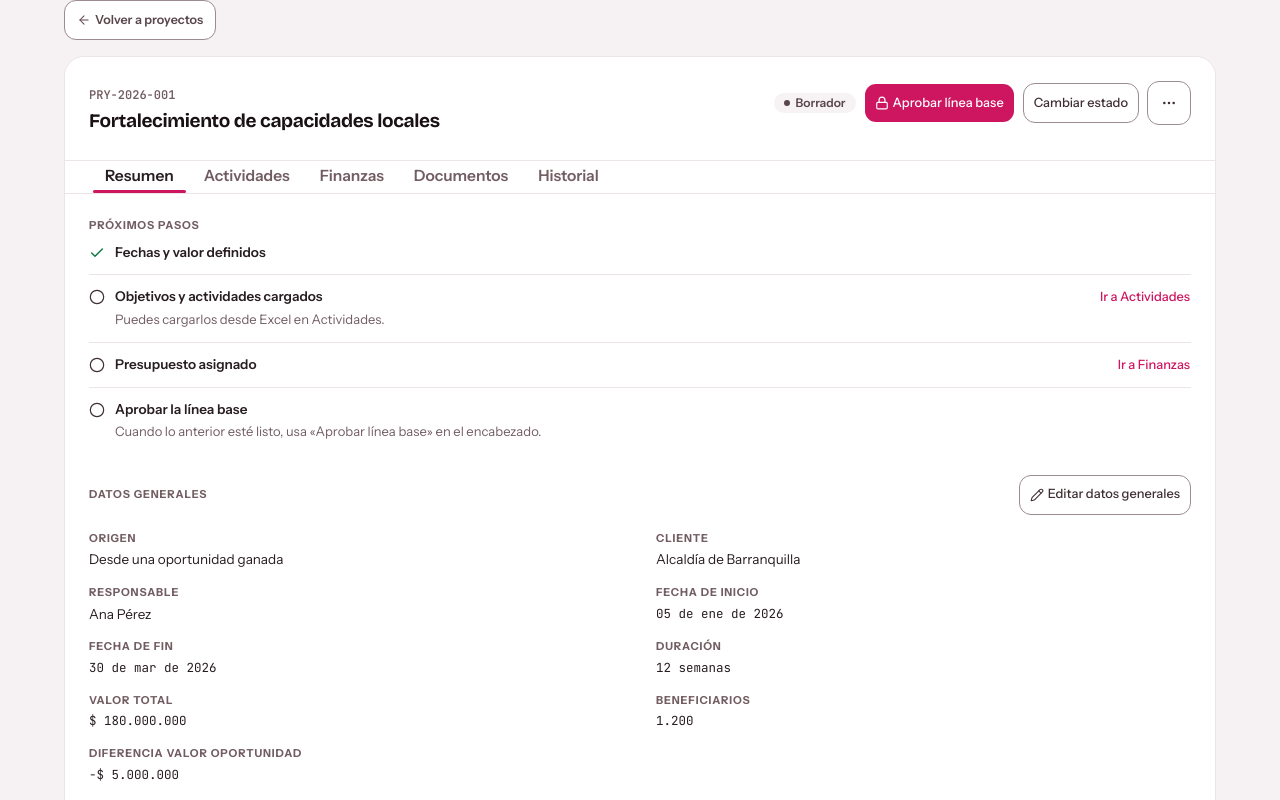
ProjectFicha (page) › mounts the team in the Resumen and the activities structure only in the Actividades tab
Click the tab "Actividades". click: coordinates (247, 176)
box: 191,164 -> 303,189
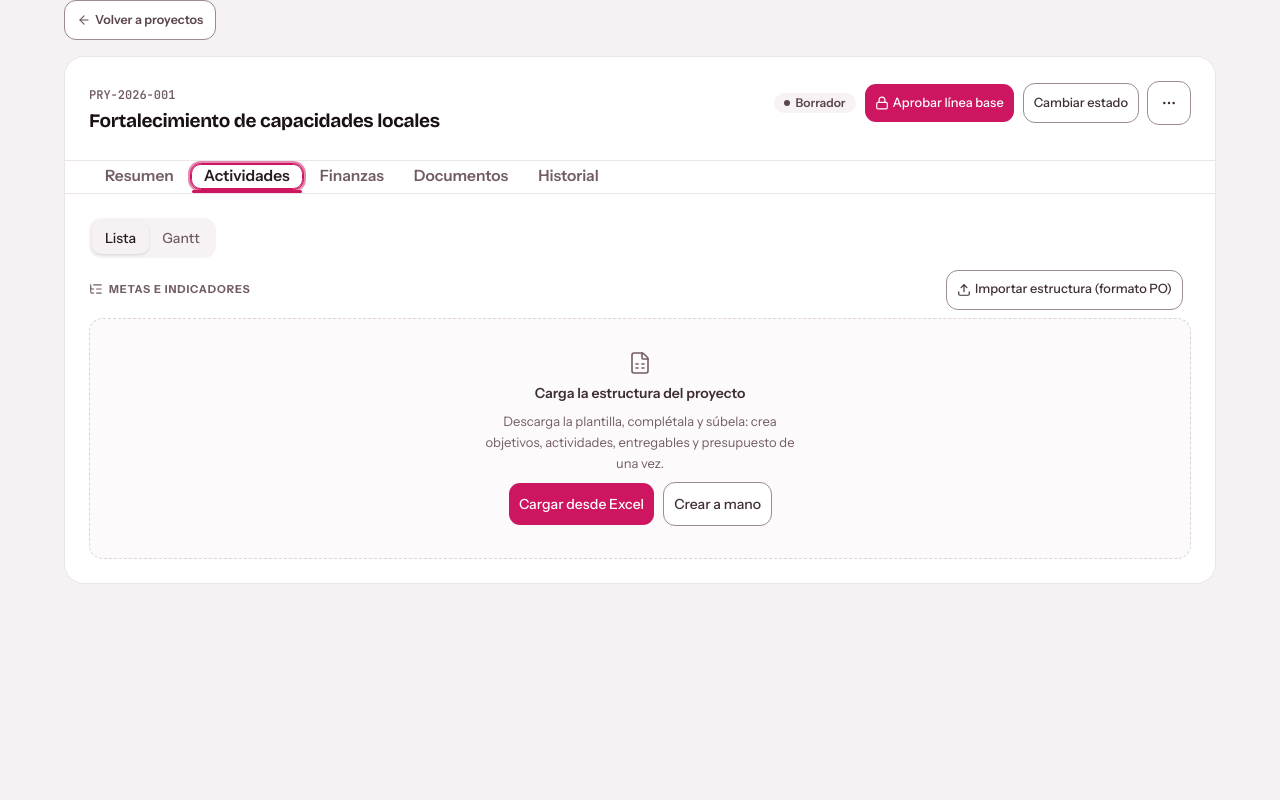
expect the element with test id "estructura" shows "Metas e indicadores": met, box 109,282 -> 250,296
